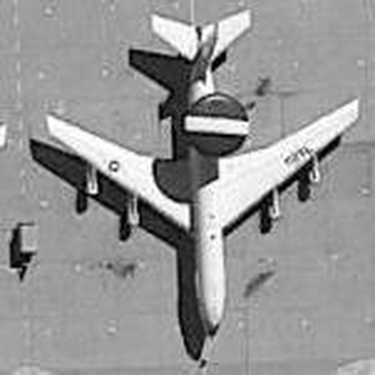airplane: (26, 6, 367, 351)
